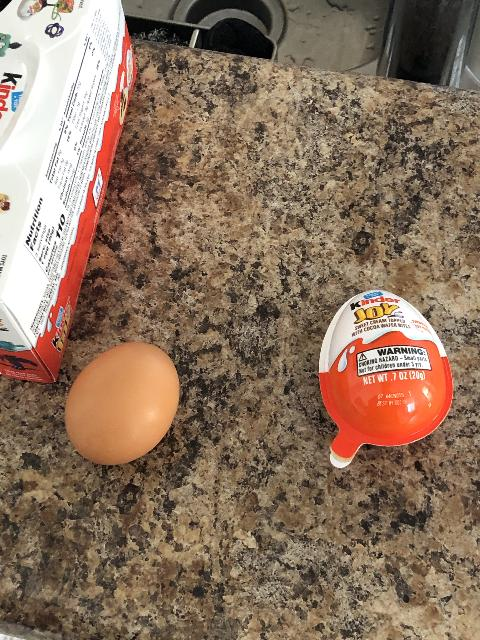Sano: (63, 343, 179, 465)
